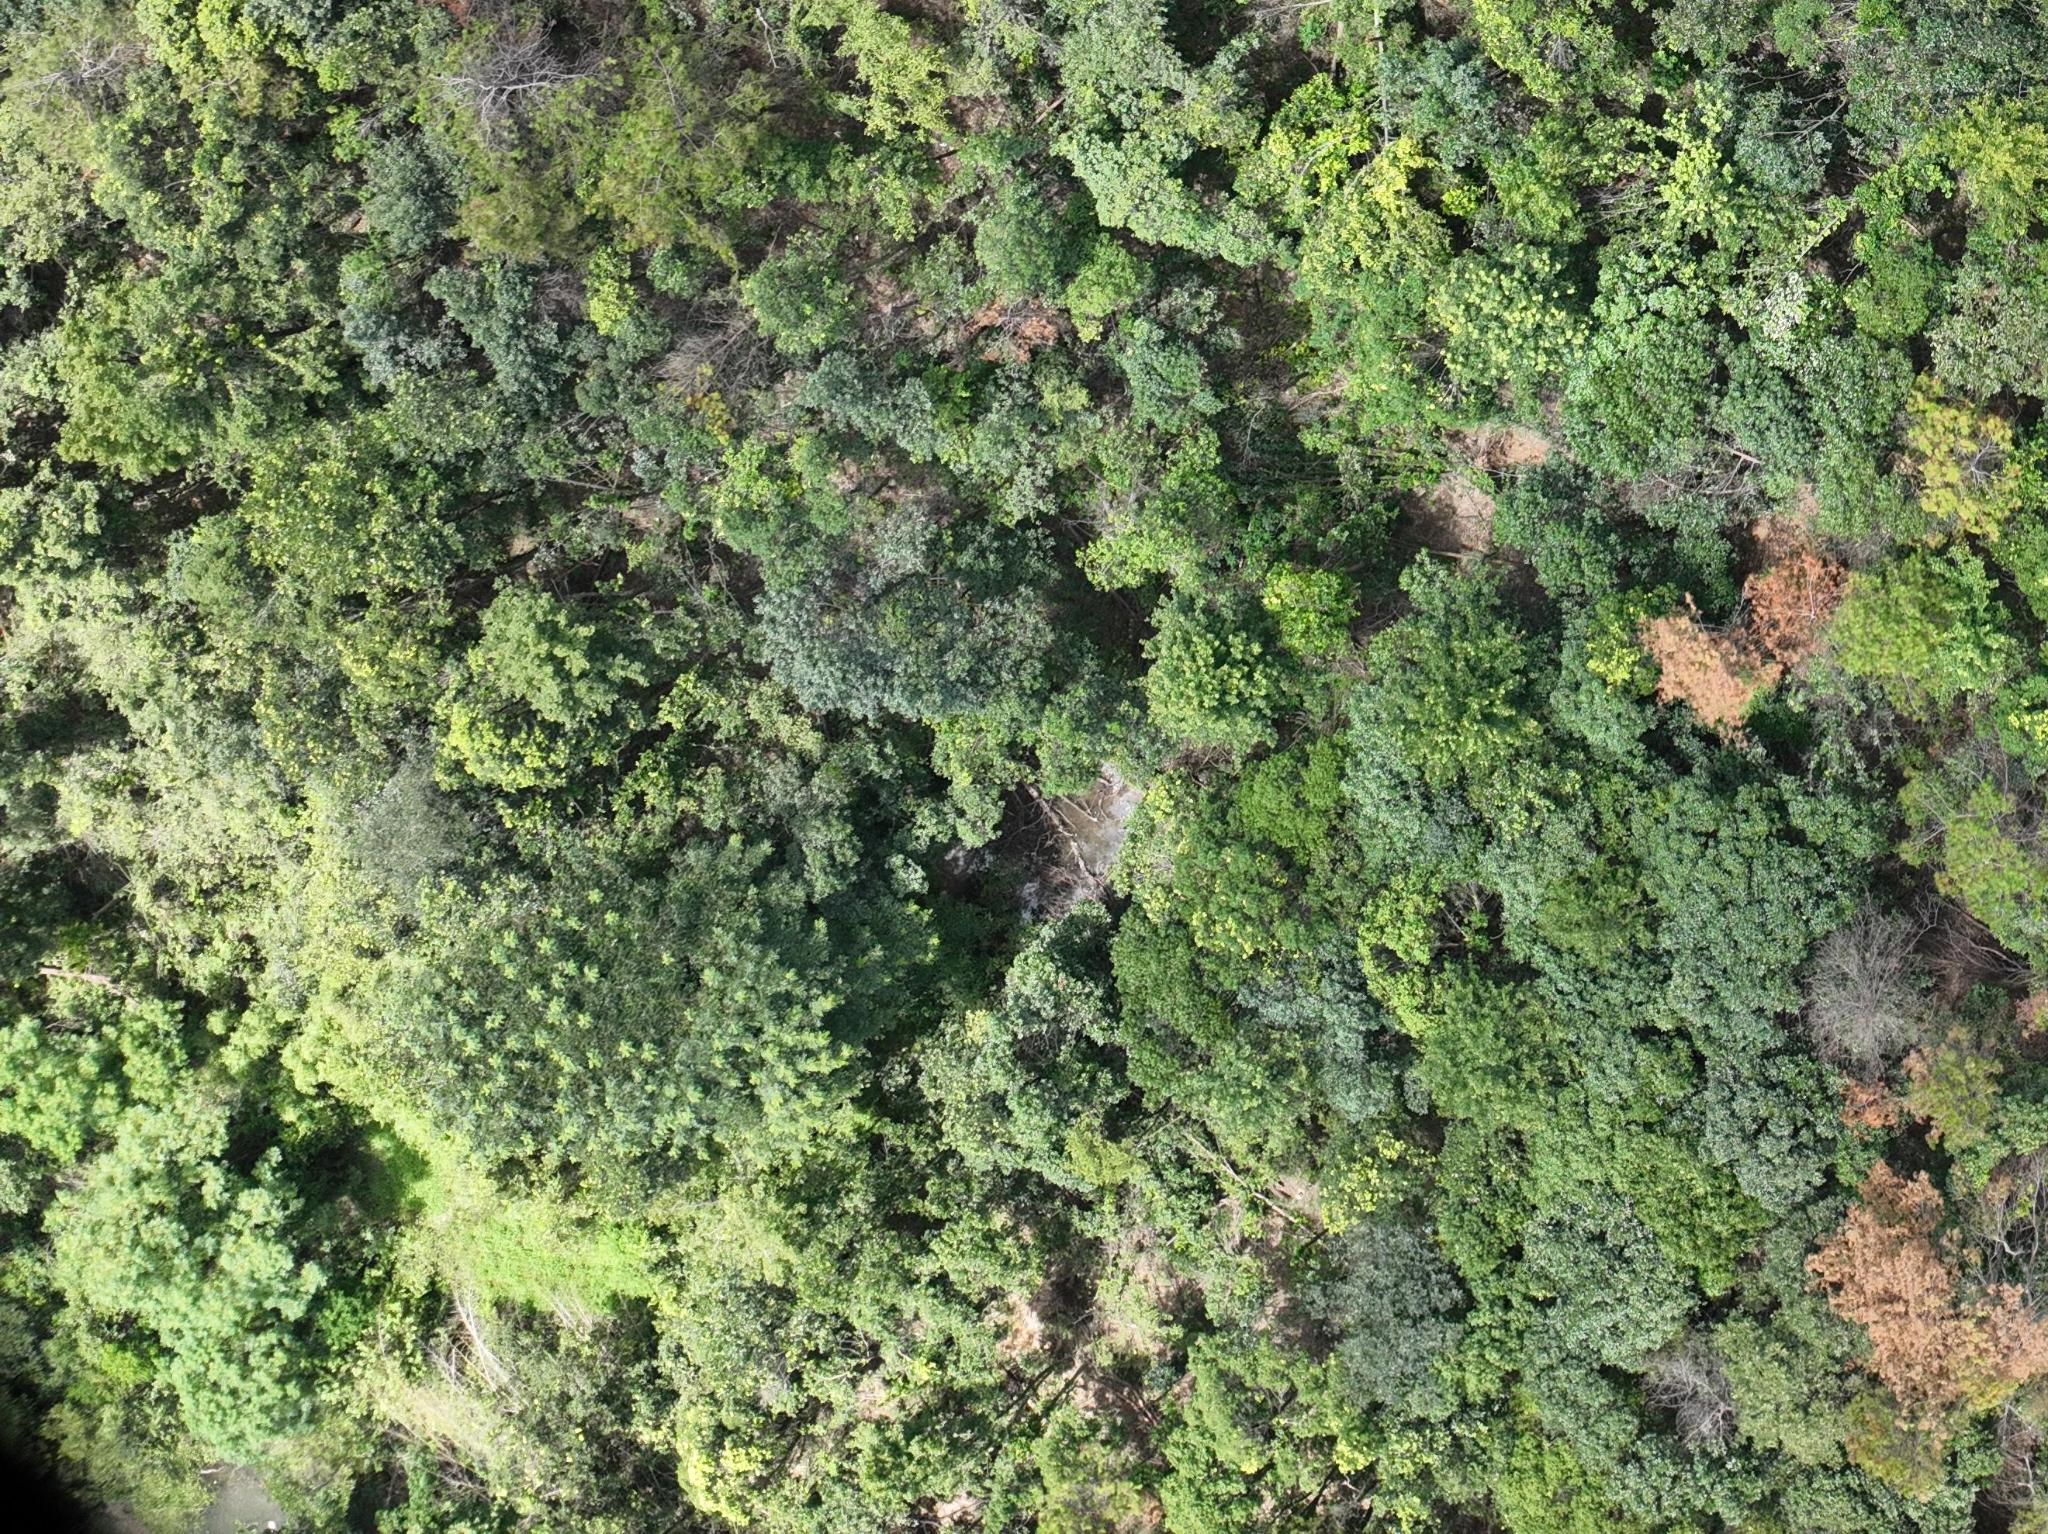dead: (1801, 931, 1924, 1054)
heavy: (1814, 1176, 2033, 1407), (1644, 545, 1837, 736)
light: (1906, 388, 2021, 541)
